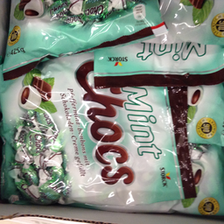candy: (1, 65, 219, 211)
